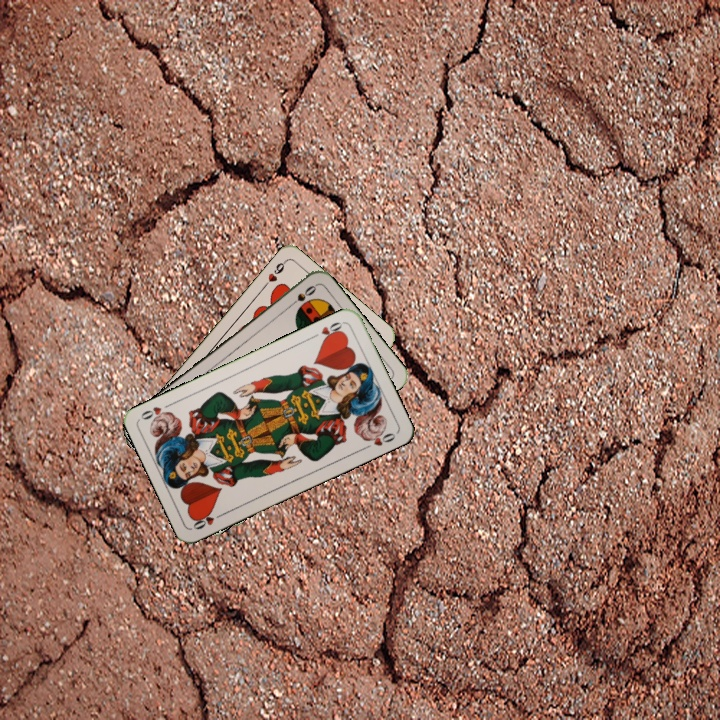H9: (259, 257, 288, 291)
HO: (308, 318, 346, 344), (189, 508, 227, 532)
SO: (284, 281, 319, 311)
